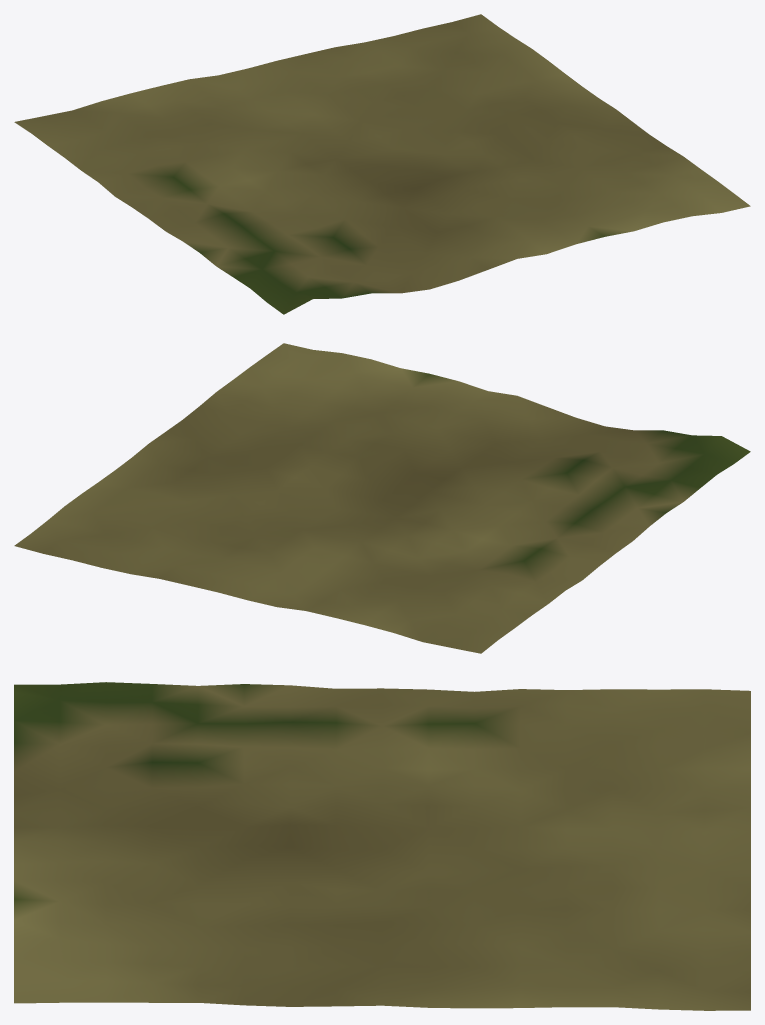
The model's file is terrain_lod1_3_-1.obj.
3 views of the same model, one above another, from view 1: azimuth 30°, elevation 25°; view 2: azimuth 150°, elevation 25°; view 3: azimuth 270°, elevation 25° (orthographic). The views are drawn at different scales.
Visible parts, largest first — view 1: terrain_lod1_3_-1; view 2: terrain_lod1_3_-1; view 3: terrain_lod1_3_-1.
Boxes of the visible parts, box(x1,y1,x2,y2) form: terrain_lod1_3_-1: box(14, 14, 750, 314); terrain_lod1_3_-1: box(14, 343, 750, 653); terrain_lod1_3_-1: box(14, 682, 750, 1010).
Size of the model in its own units: 128 by 5.26 by 128.
